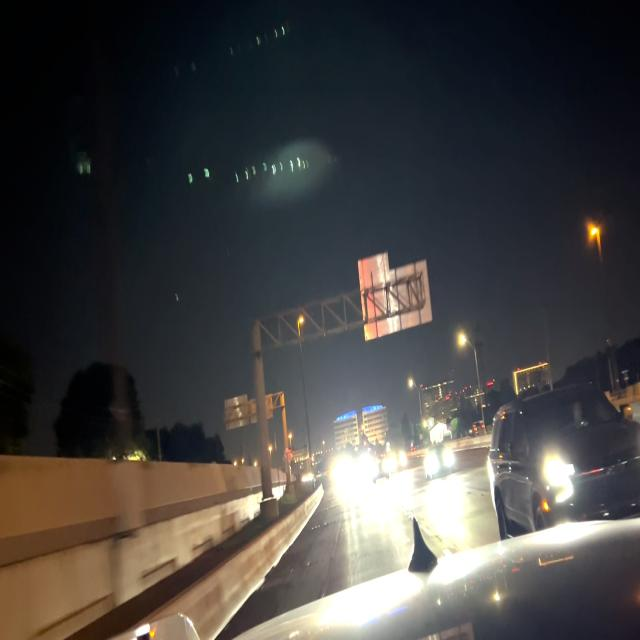back-of-sign: (359, 254, 434, 342)
